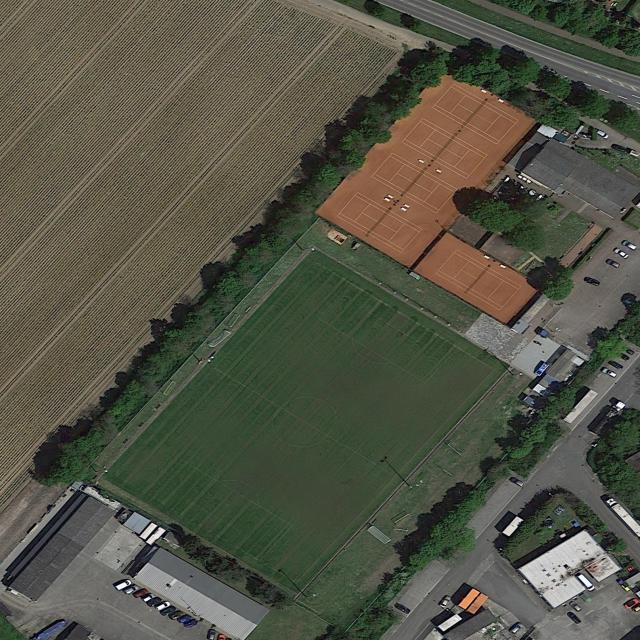large-vehicle: (587, 400, 627, 437), (502, 516, 524, 537), (576, 574, 596, 592), (115, 579, 132, 591)
small-vehicle: (534, 361, 552, 377), (591, 126, 611, 140), (393, 602, 412, 615), (609, 142, 628, 154), (567, 611, 583, 624), (619, 343, 636, 355), (607, 358, 624, 370), (159, 605, 177, 616), (624, 597, 640, 609), (146, 596, 163, 607), (613, 248, 630, 259), (510, 622, 524, 635), (583, 276, 601, 286), (155, 600, 171, 611), (605, 258, 621, 269), (509, 476, 524, 487), (622, 240, 637, 251), (602, 368, 618, 378), (169, 610, 184, 620), (134, 588, 149, 598), (440, 596, 452, 608), (124, 585, 140, 594), (569, 601, 582, 612), (621, 297, 634, 307), (184, 619, 198, 628), (178, 614, 192, 623), (616, 351, 630, 359), (142, 594, 154, 602), (207, 630, 216, 640)
